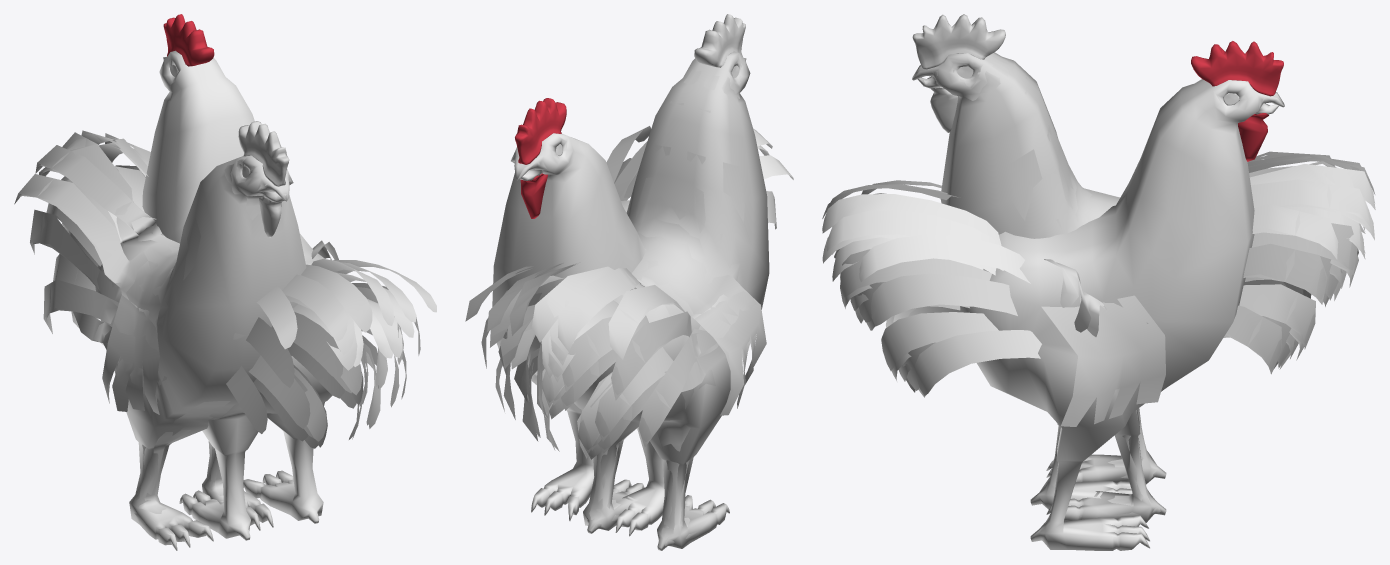
The model's file is chick2.fbx.
3 views of the same model, side by side, from view 1: azimuth 30°, elevation 25°; view 2: azimuth 150°, elevation 25°; view 3: azimuth 270°, elevation 25° (orthographic). The views are drawn at different scales.
Visible parts, largest first — view 1: Cube_013, Cube_008, Cube_011, Cube, Cube_012, Cube_010, Cube_005; view 2: Cube_013, Cube_011, Cube, Cube_008, Cube_010, Cube_012, Cube_009; view 3: Cube_011, Cube_013, Cube_008, Cube, Cube_007, Cube_012, Cube_010, Cube_009, Cube_005.
Boxes of the visible parts, left/top/right/bottom form: Cube_013: left=14, top=130, right=306, bottom=550; Cube_008: left=226, top=258, right=436, bottom=448; Cube_011: left=142, top=50, right=332, bottom=540; Cube: left=16, top=133, right=338, bottom=548; Cube_012: left=238, top=121, right=289, bottom=186; Cube_010: left=163, top=14, right=214, bottom=66; Cube_005: left=259, top=196, right=282, bottom=237; Cube_013: left=465, top=51, right=769, bottom=550; Cube_011: left=492, top=133, right=664, bottom=536; Cube: left=482, top=57, right=757, bottom=546; Cube_008: left=606, top=126, right=793, bottom=229; Cube_010: left=515, top=98, right=566, bottom=164; Cube_012: left=694, top=14, right=745, bottom=67; Cube_009: left=520, top=173, right=547, bottom=218; Cube_011: left=960, top=79, right=1284, bottom=550; Cube_013: left=912, top=52, right=1375, bottom=522; Cube_008: left=822, top=180, right=1041, bottom=397; Cube: left=915, top=53, right=1374, bottom=517; Cube_007: left=1041, top=295, right=1165, bottom=426; Cube_012: left=912, top=14, right=1005, bottom=69; Cube_010: left=1191, top=41, right=1283, bottom=96; Cube_009: left=1238, top=113, right=1268, bottom=161; Cube_005: left=930, top=87, right=957, bottom=132.
Bounding box in the file's own units: 4.55 × 8.61 × 8.94.
